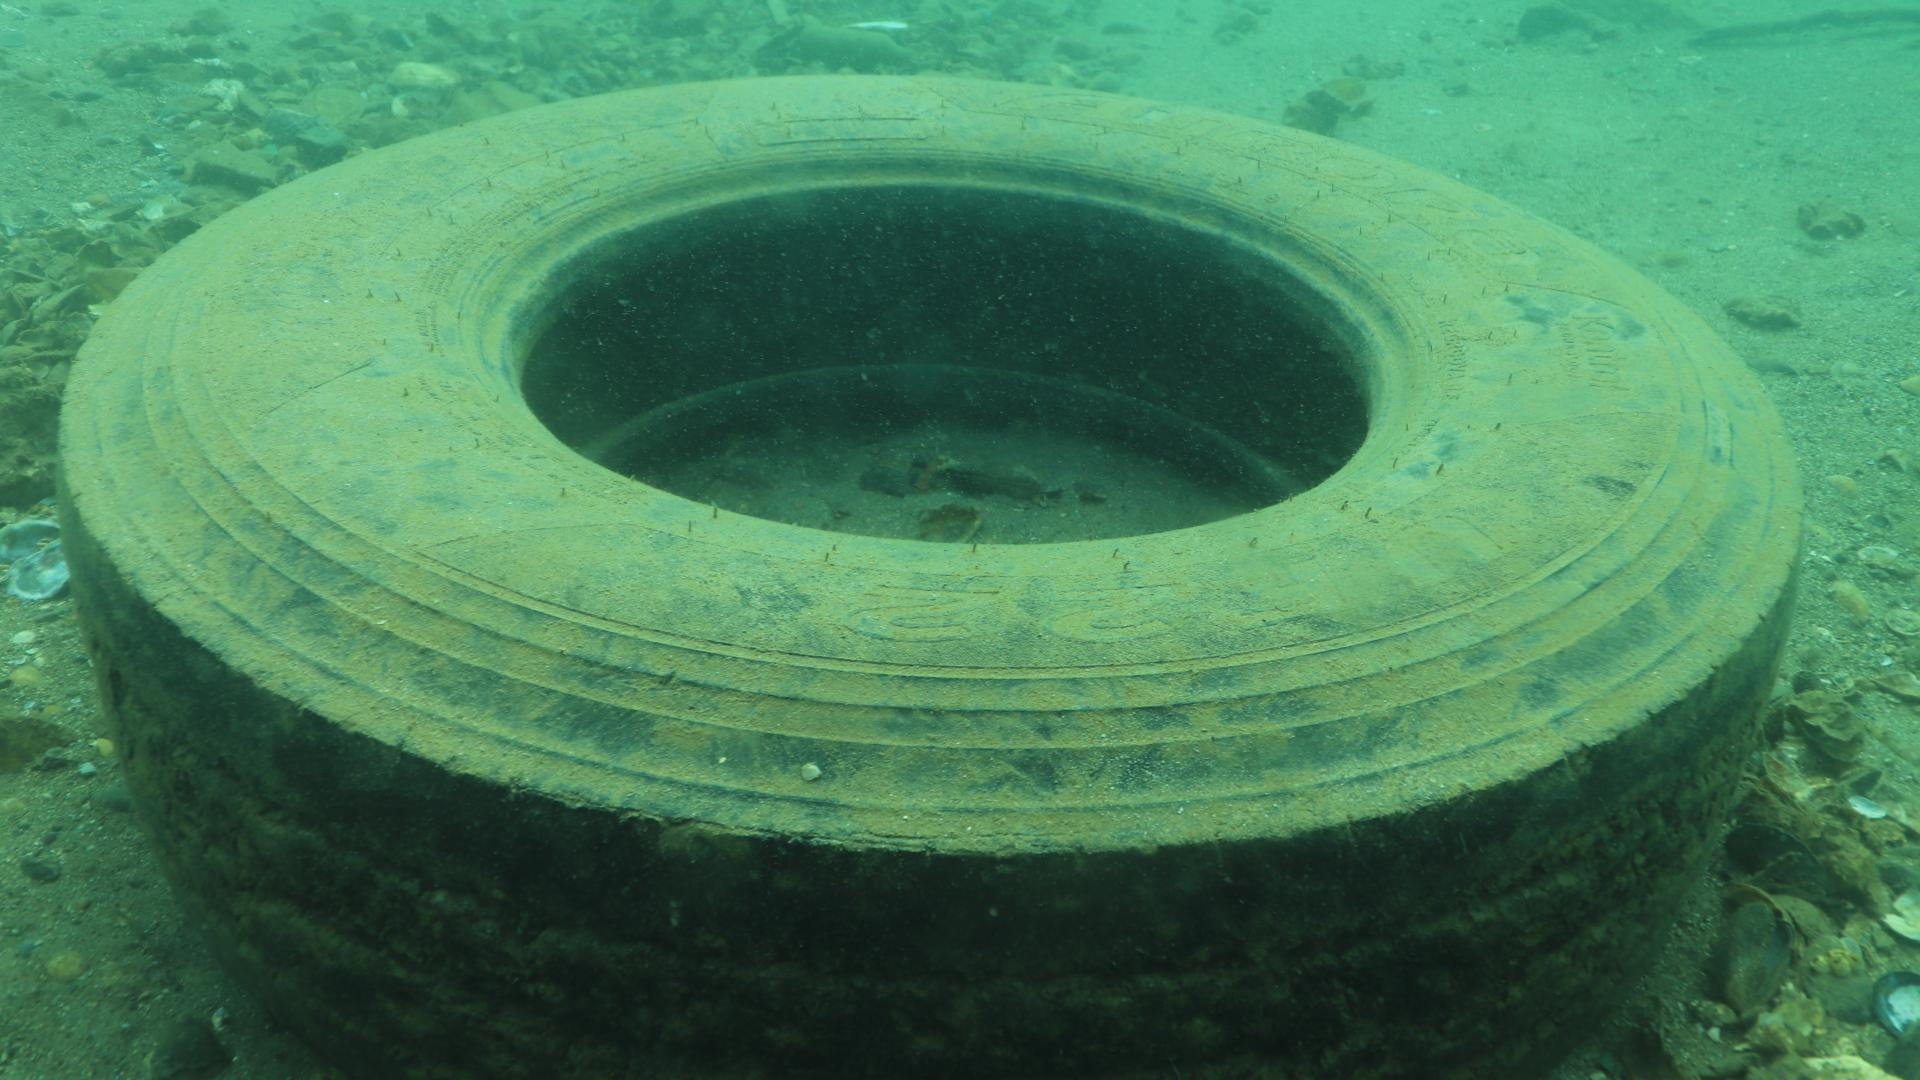tire: (55, 75, 1803, 1080)
